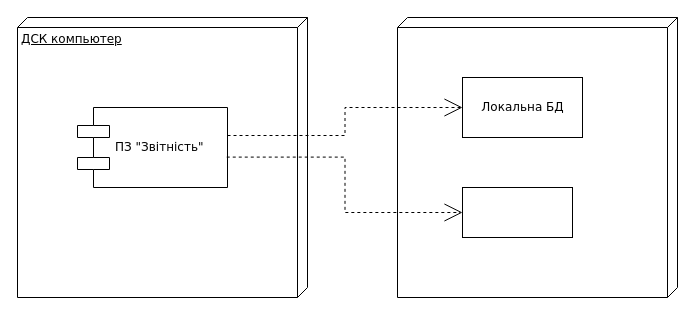
Image size: 695x315. Some labels were removed from this diagram. Each missing label, with the box of its shape:
Зовнішній захищений носій даних: (396, 16, 678, 298)
Файли звітів: (462, 186, 572, 238)
